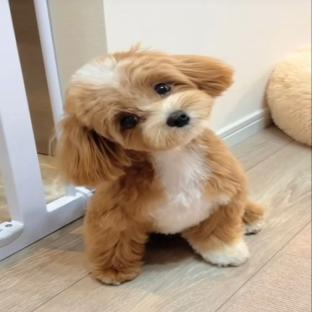Animal: (56, 46, 263, 284)
